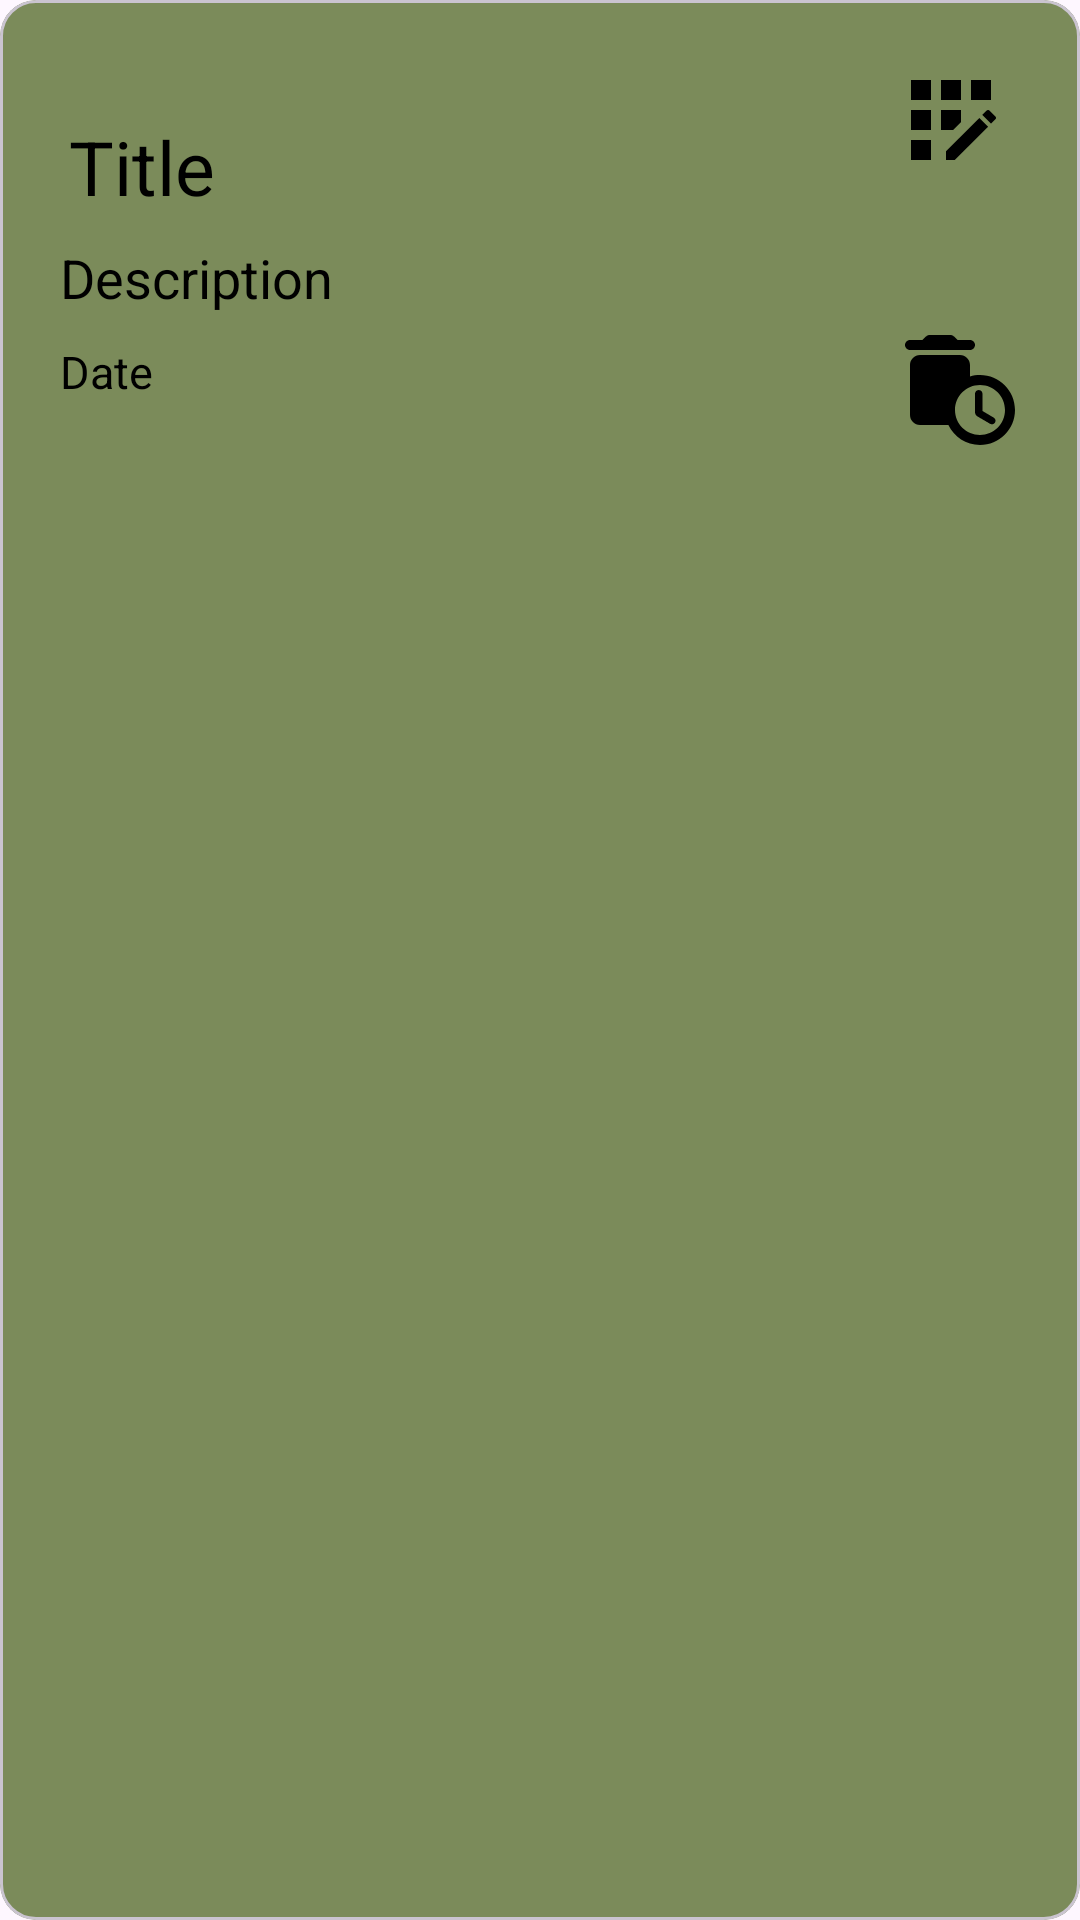

Icons on this 1080x1920 Android screen, each with its box as (x1, y1, x2, y2):
delete: (905, 335, 1015, 445)
edit: (911, 80, 996, 160)
